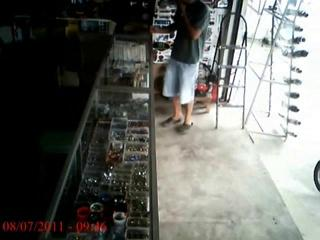Normal: (160, 0, 210, 131)
